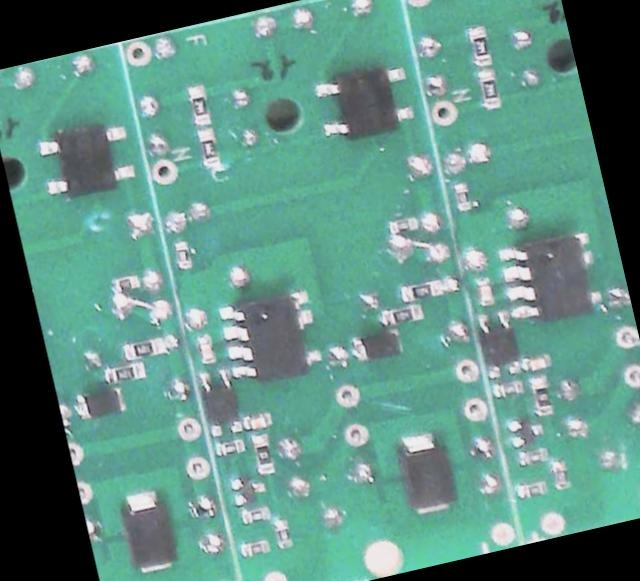chip-capacitor: (192, 331, 217, 367), (517, 349, 553, 374), (239, 408, 273, 432), (472, 273, 496, 307)
chip-resistor: (192, 123, 224, 171), (182, 80, 214, 127), (376, 298, 425, 328), (472, 65, 504, 110), (246, 430, 277, 476), (463, 22, 494, 67), (396, 275, 444, 304), (120, 333, 167, 362), (526, 375, 554, 418), (103, 358, 144, 385), (169, 236, 195, 271), (449, 178, 474, 214), (237, 502, 274, 526), (269, 516, 294, 551), (385, 213, 421, 237), (514, 444, 550, 468), (490, 375, 524, 400), (211, 435, 247, 458), (237, 536, 272, 559), (514, 479, 549, 501), (547, 457, 570, 490), (111, 272, 141, 294)
diode: (389, 426, 459, 519), (112, 484, 180, 578), (71, 383, 129, 424), (347, 325, 405, 364)
ic: (493, 224, 606, 330), (214, 282, 325, 388), (31, 113, 141, 207), (307, 58, 419, 147), (472, 308, 524, 383), (193, 364, 244, 439)
transistor: (503, 411, 547, 451), (225, 470, 267, 507)
